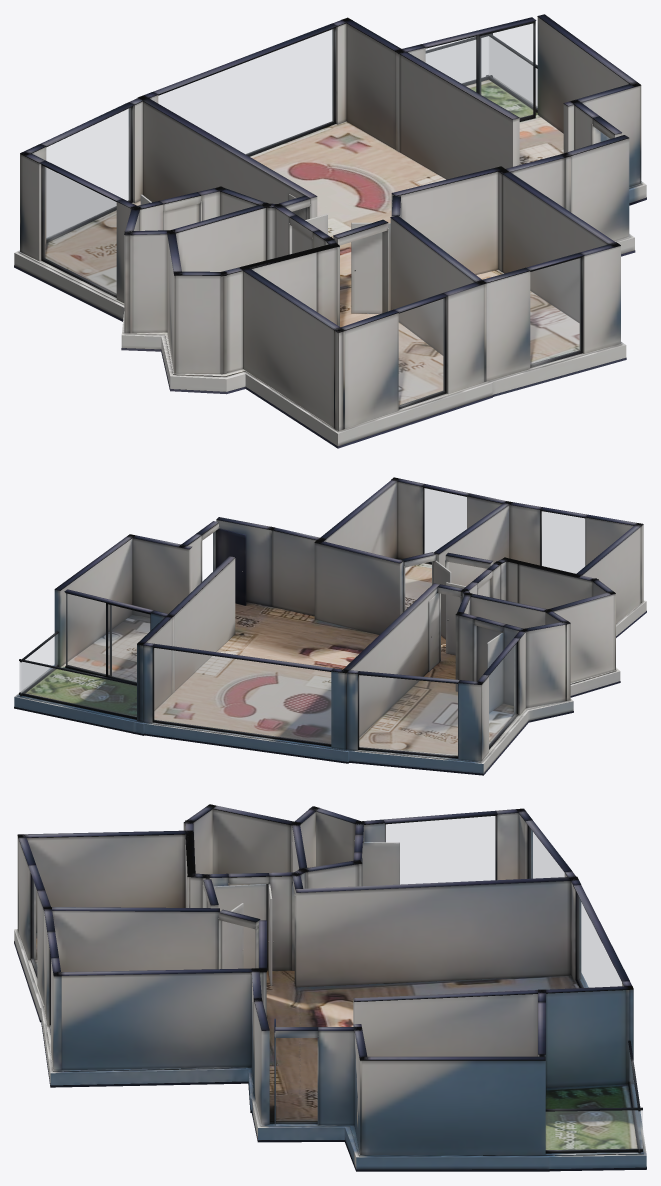
3 views of the same model, one above another, from view 1: azimuth 30°, elevation 25°; view 2: azimuth 150°, elevation 25°; view 3: azimuth 270°, elevation 25° (orthographic). The views are drawn at different scales.
Visible parts, largest first — view 1: plan, glass1_m, glass2_m, glass3_m, glass0_m, glass5_m, glass4_m, railg1_m, railg0_m; view 2: plan, glass1_m, glass2_m, glass0_m, railg0_m, glass4_m, glass5_m, glass3_m, railg1_m; view 3: plan, glass3_m, railg1_m, glass1_m, glass2_m.
Part boxes in pixels (x1=…): plan: x1=14, y1=14, x2=646, y2=448; glass1_m: x1=158, y1=29, x2=333, y2=154; glass2_m: x1=46, y1=108, x2=130, y2=238; glass3_m: x1=43, y1=166, x2=116, y2=294; glass0_m: x1=426, y1=24, x2=532, y2=117; glass5_m: x1=530, y1=258, x2=580, y2=364; glass4_m: x1=399, y1=298, x2=444, y2=405; railg1_m: x1=489, y1=37, x2=537, y2=108; railg0_m: x1=426, y1=36, x2=488, y2=83; plan: x1=14, y1=477, x2=646, y2=775; glass1_m: x1=154, y1=648, x2=330, y2=744; glass2_m: x1=359, y1=675, x2=457, y2=756; glass0_m: x1=66, y1=593, x2=149, y2=682; railg0_m: x1=19, y1=661, x2=136, y2=716; glass4_m: x1=541, y1=511, x2=584, y2=573; glass5_m: x1=424, y1=488, x2=466, y2=553; glass3_m: x1=489, y1=644, x2=516, y2=745; railg1_m: x1=21, y1=634, x2=57, y2=693; plan: x1=14, y1=804, x2=646, y2=1171; glass3_m: x1=386, y1=816, x2=495, y2=884; railg1_m: x1=546, y1=1110, x2=642, y2=1150; glass1_m: x1=577, y1=895, x2=621, y2=987; glass2_m: x1=529, y1=828, x2=564, y2=878.
Size of the model in its own units: 13.3 by 2.62 by 13.68.
2 materials, 1 textured.
